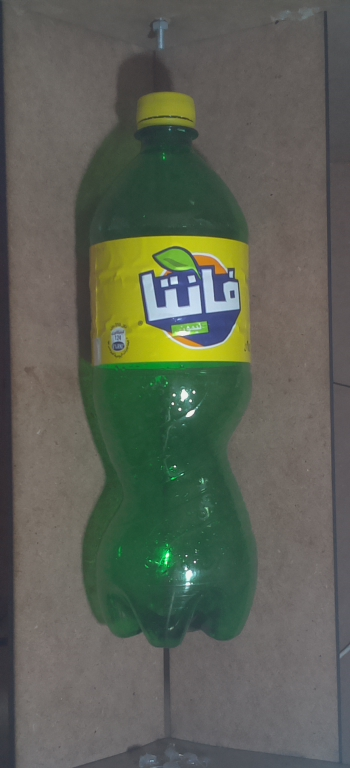Bouteille_1L: (72, 83, 264, 655)
